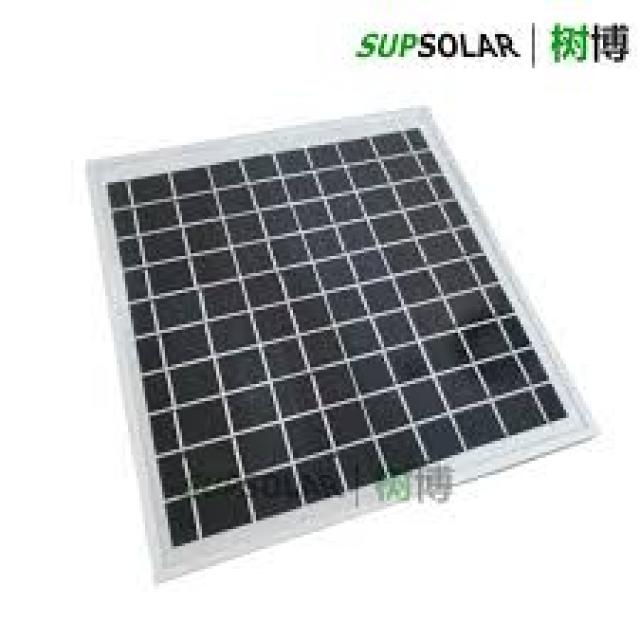no faulty: (107, 131, 558, 547)
